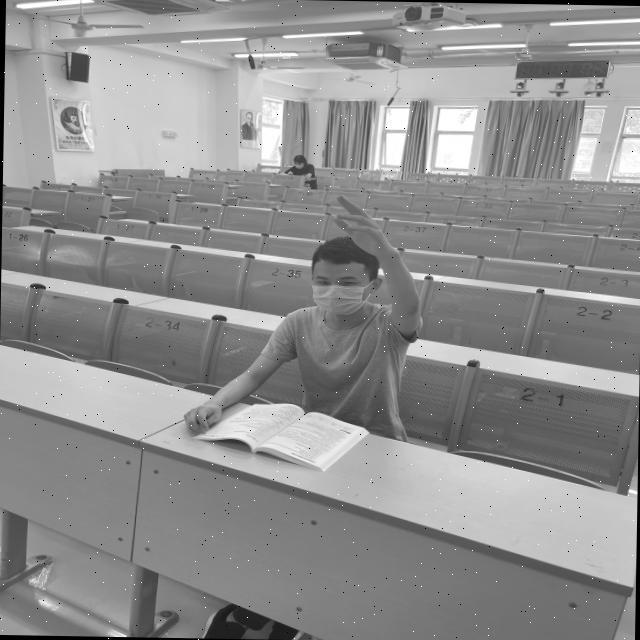study: (186, 193, 425, 476)
